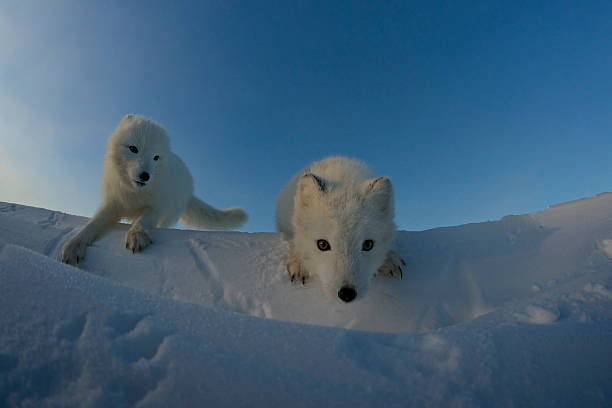arcticfox: (299, 203, 391, 315), (115, 125, 172, 197)
